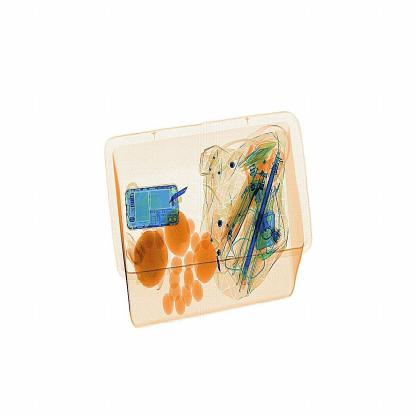pliers: (164, 180, 192, 207)
